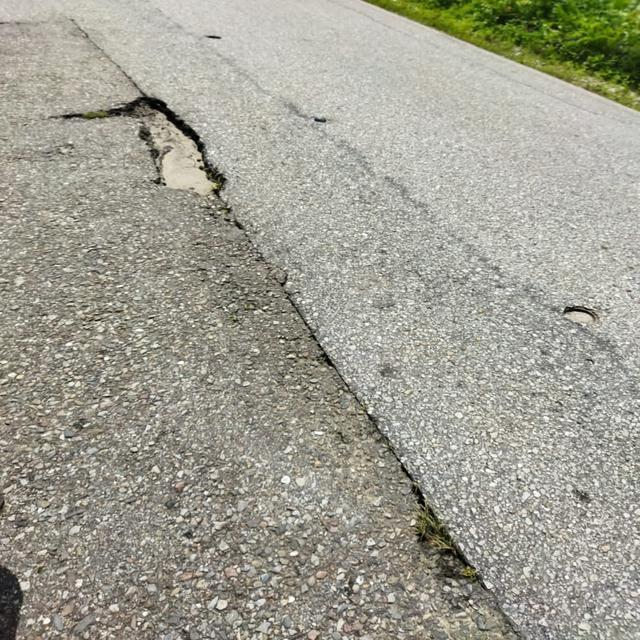Lubang: (122, 98, 224, 196)
Memanjang: (64, 13, 556, 640)
